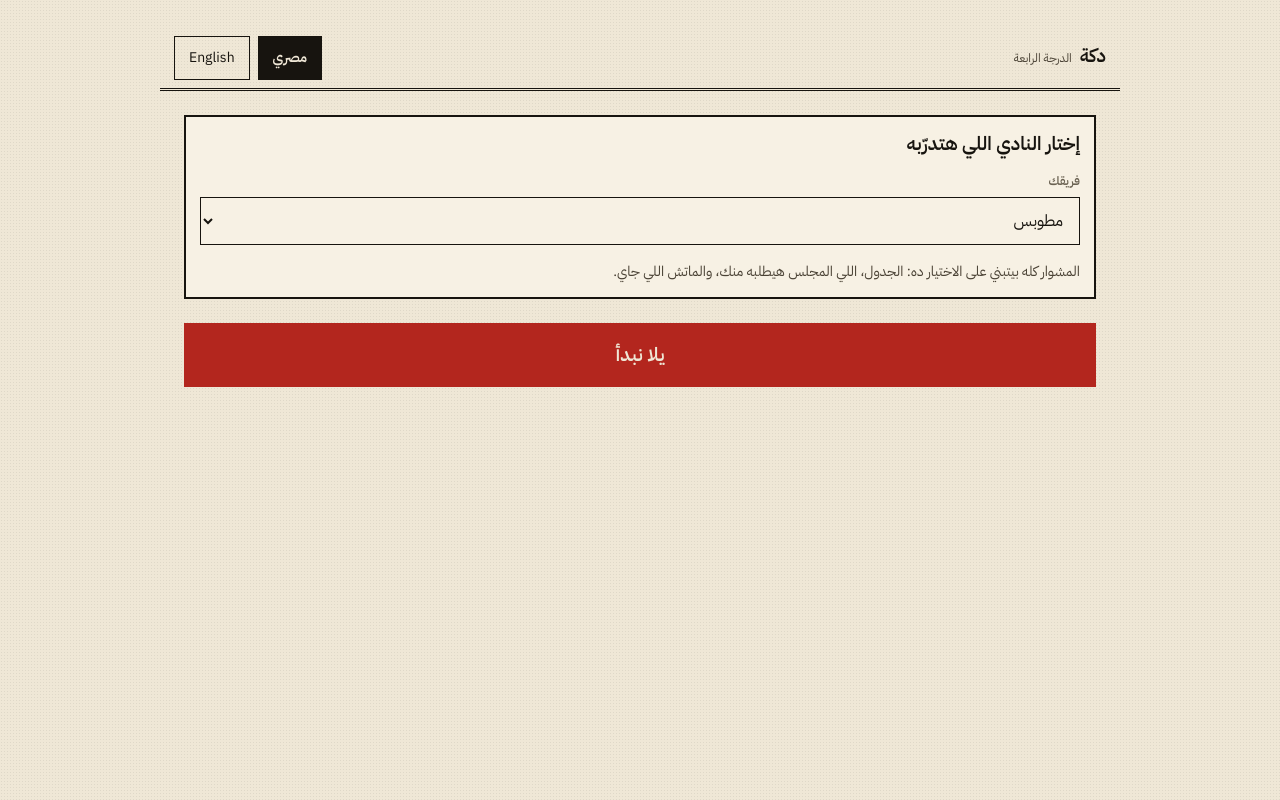
Test: two locales, one layout › switches to English and flips direction, without a second layout
Click the button "English": x=212, y=58 [174,36,250,80]
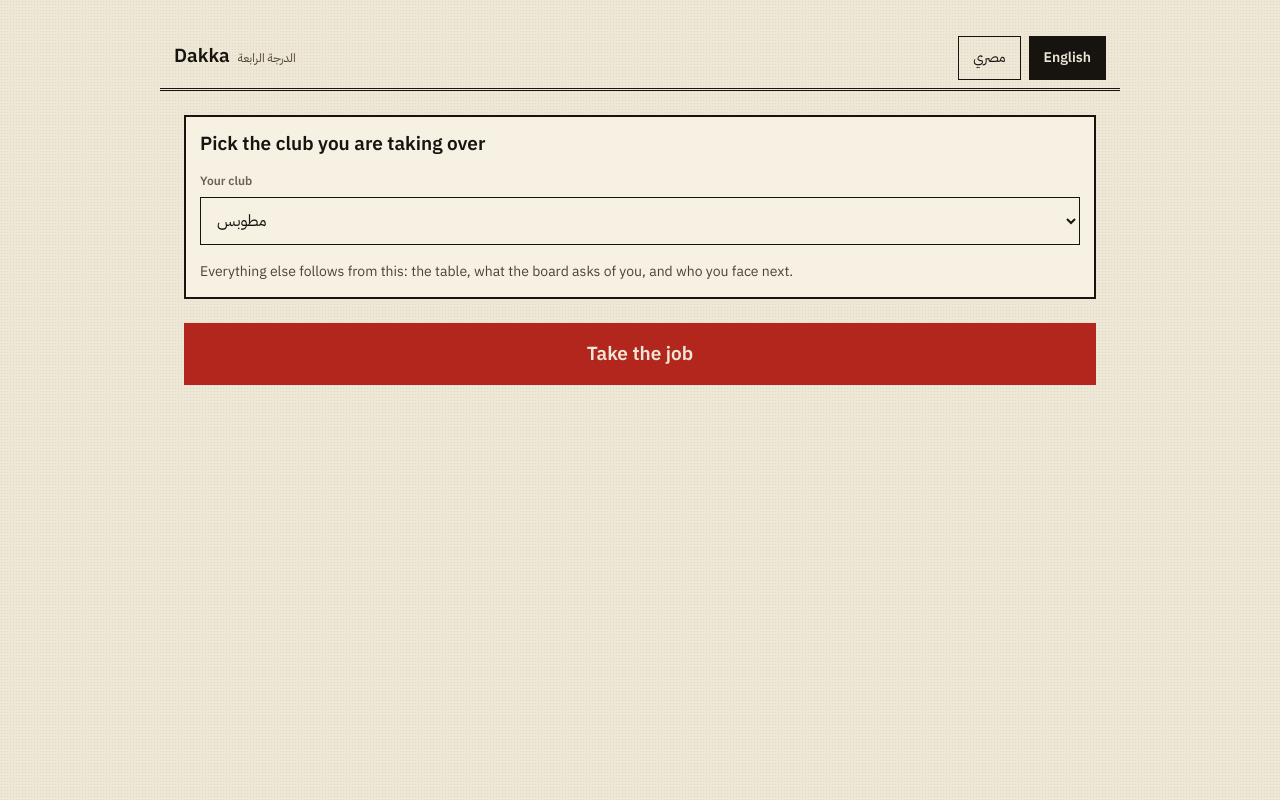
Expected: the heading "Dakka" is shown, [174,43,230,69]
Expected: the button "Take the job" is shown, [184,323,1096,384]
